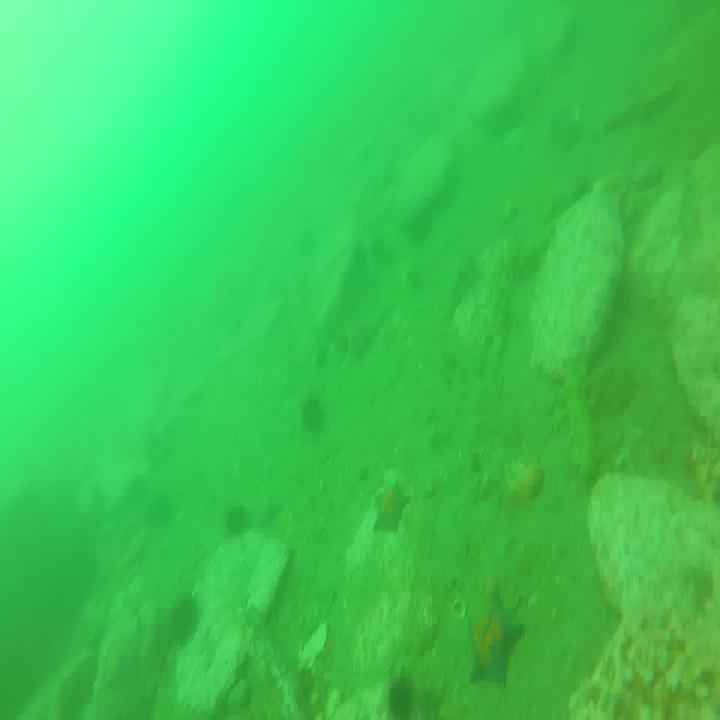echinus: (168, 605, 206, 648), (387, 676, 415, 718), (304, 395, 327, 434), (226, 503, 250, 540)
holothurian: (569, 363, 602, 477)
starfish: (470, 598, 522, 685), (372, 481, 407, 534)
